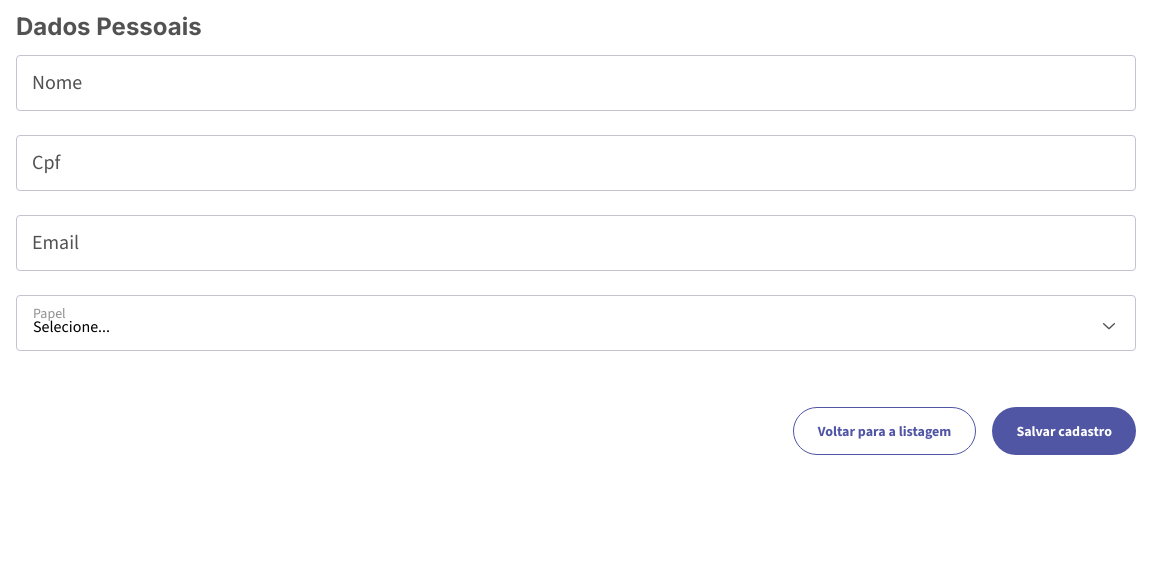
Test: EmployeeFormPresentation › should render inputs CPF with specific error
The width and height of the screenshot is (1153, 588).
Type "367" into the field with test id "document" at (576, 163), box left=16, top=135, right=1136, bottom=191
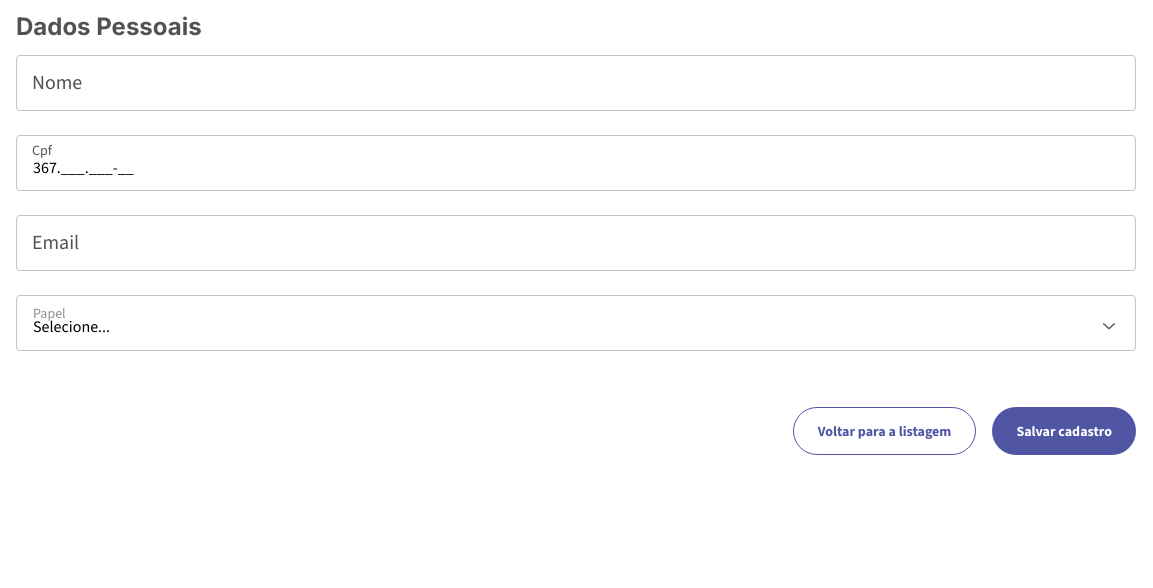
Click the button "Salvar cadastro" at (1064, 431), box left=992, top=407, right=1136, bottom=455
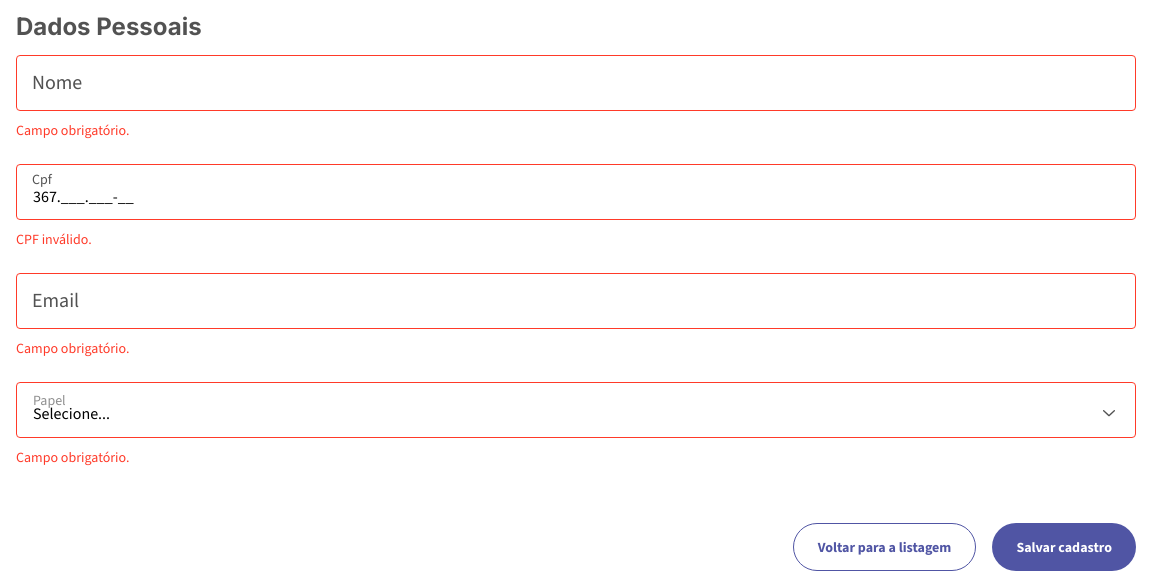
Check: the message "CPF inválido." is shown, box left=16, top=230, right=92, bottom=249
